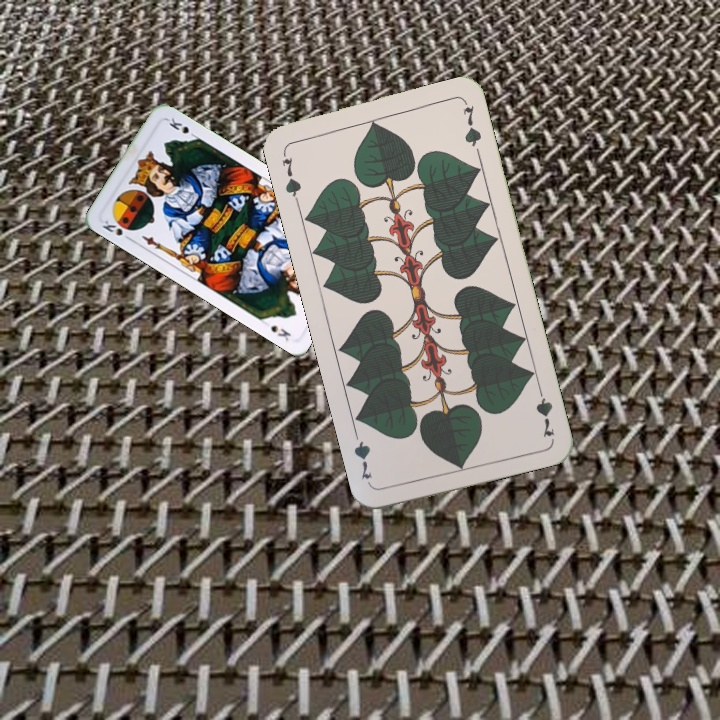G7: (278, 147, 304, 205), (532, 381, 557, 440)
SK: (98, 216, 135, 244)
